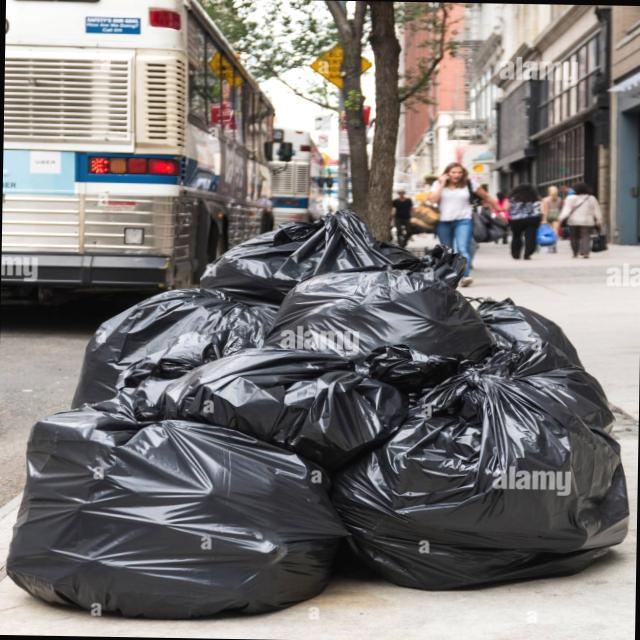garbage: (0, 189, 640, 620)
